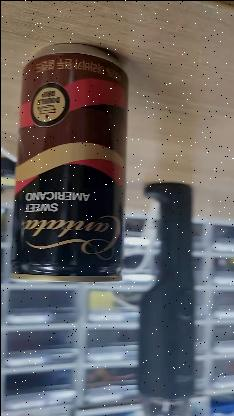Can: (9, 41, 129, 283)
